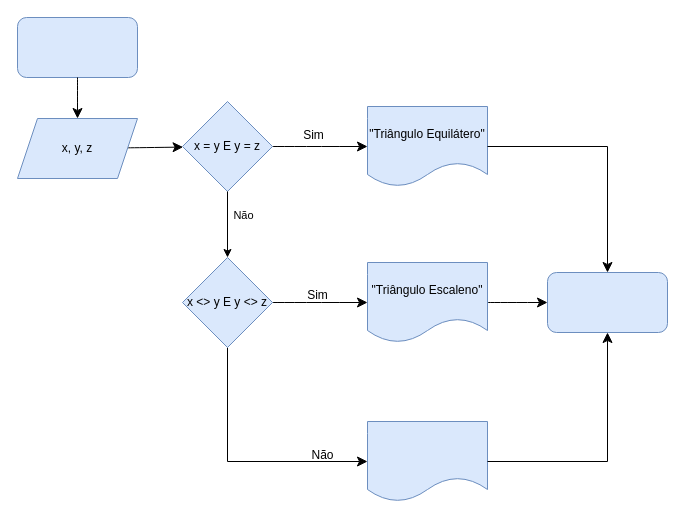
Some shapes in this 685 by 519 pixel diagram are drawn without their labels. Here are the shapes that lost their labels. From the top down, the box of each, then its label:
(16, 16, 138, 78): INÍCIO
(546, 272, 668, 332): FIM
(366, 420, 488, 502): "Triângulo Isósceles"
